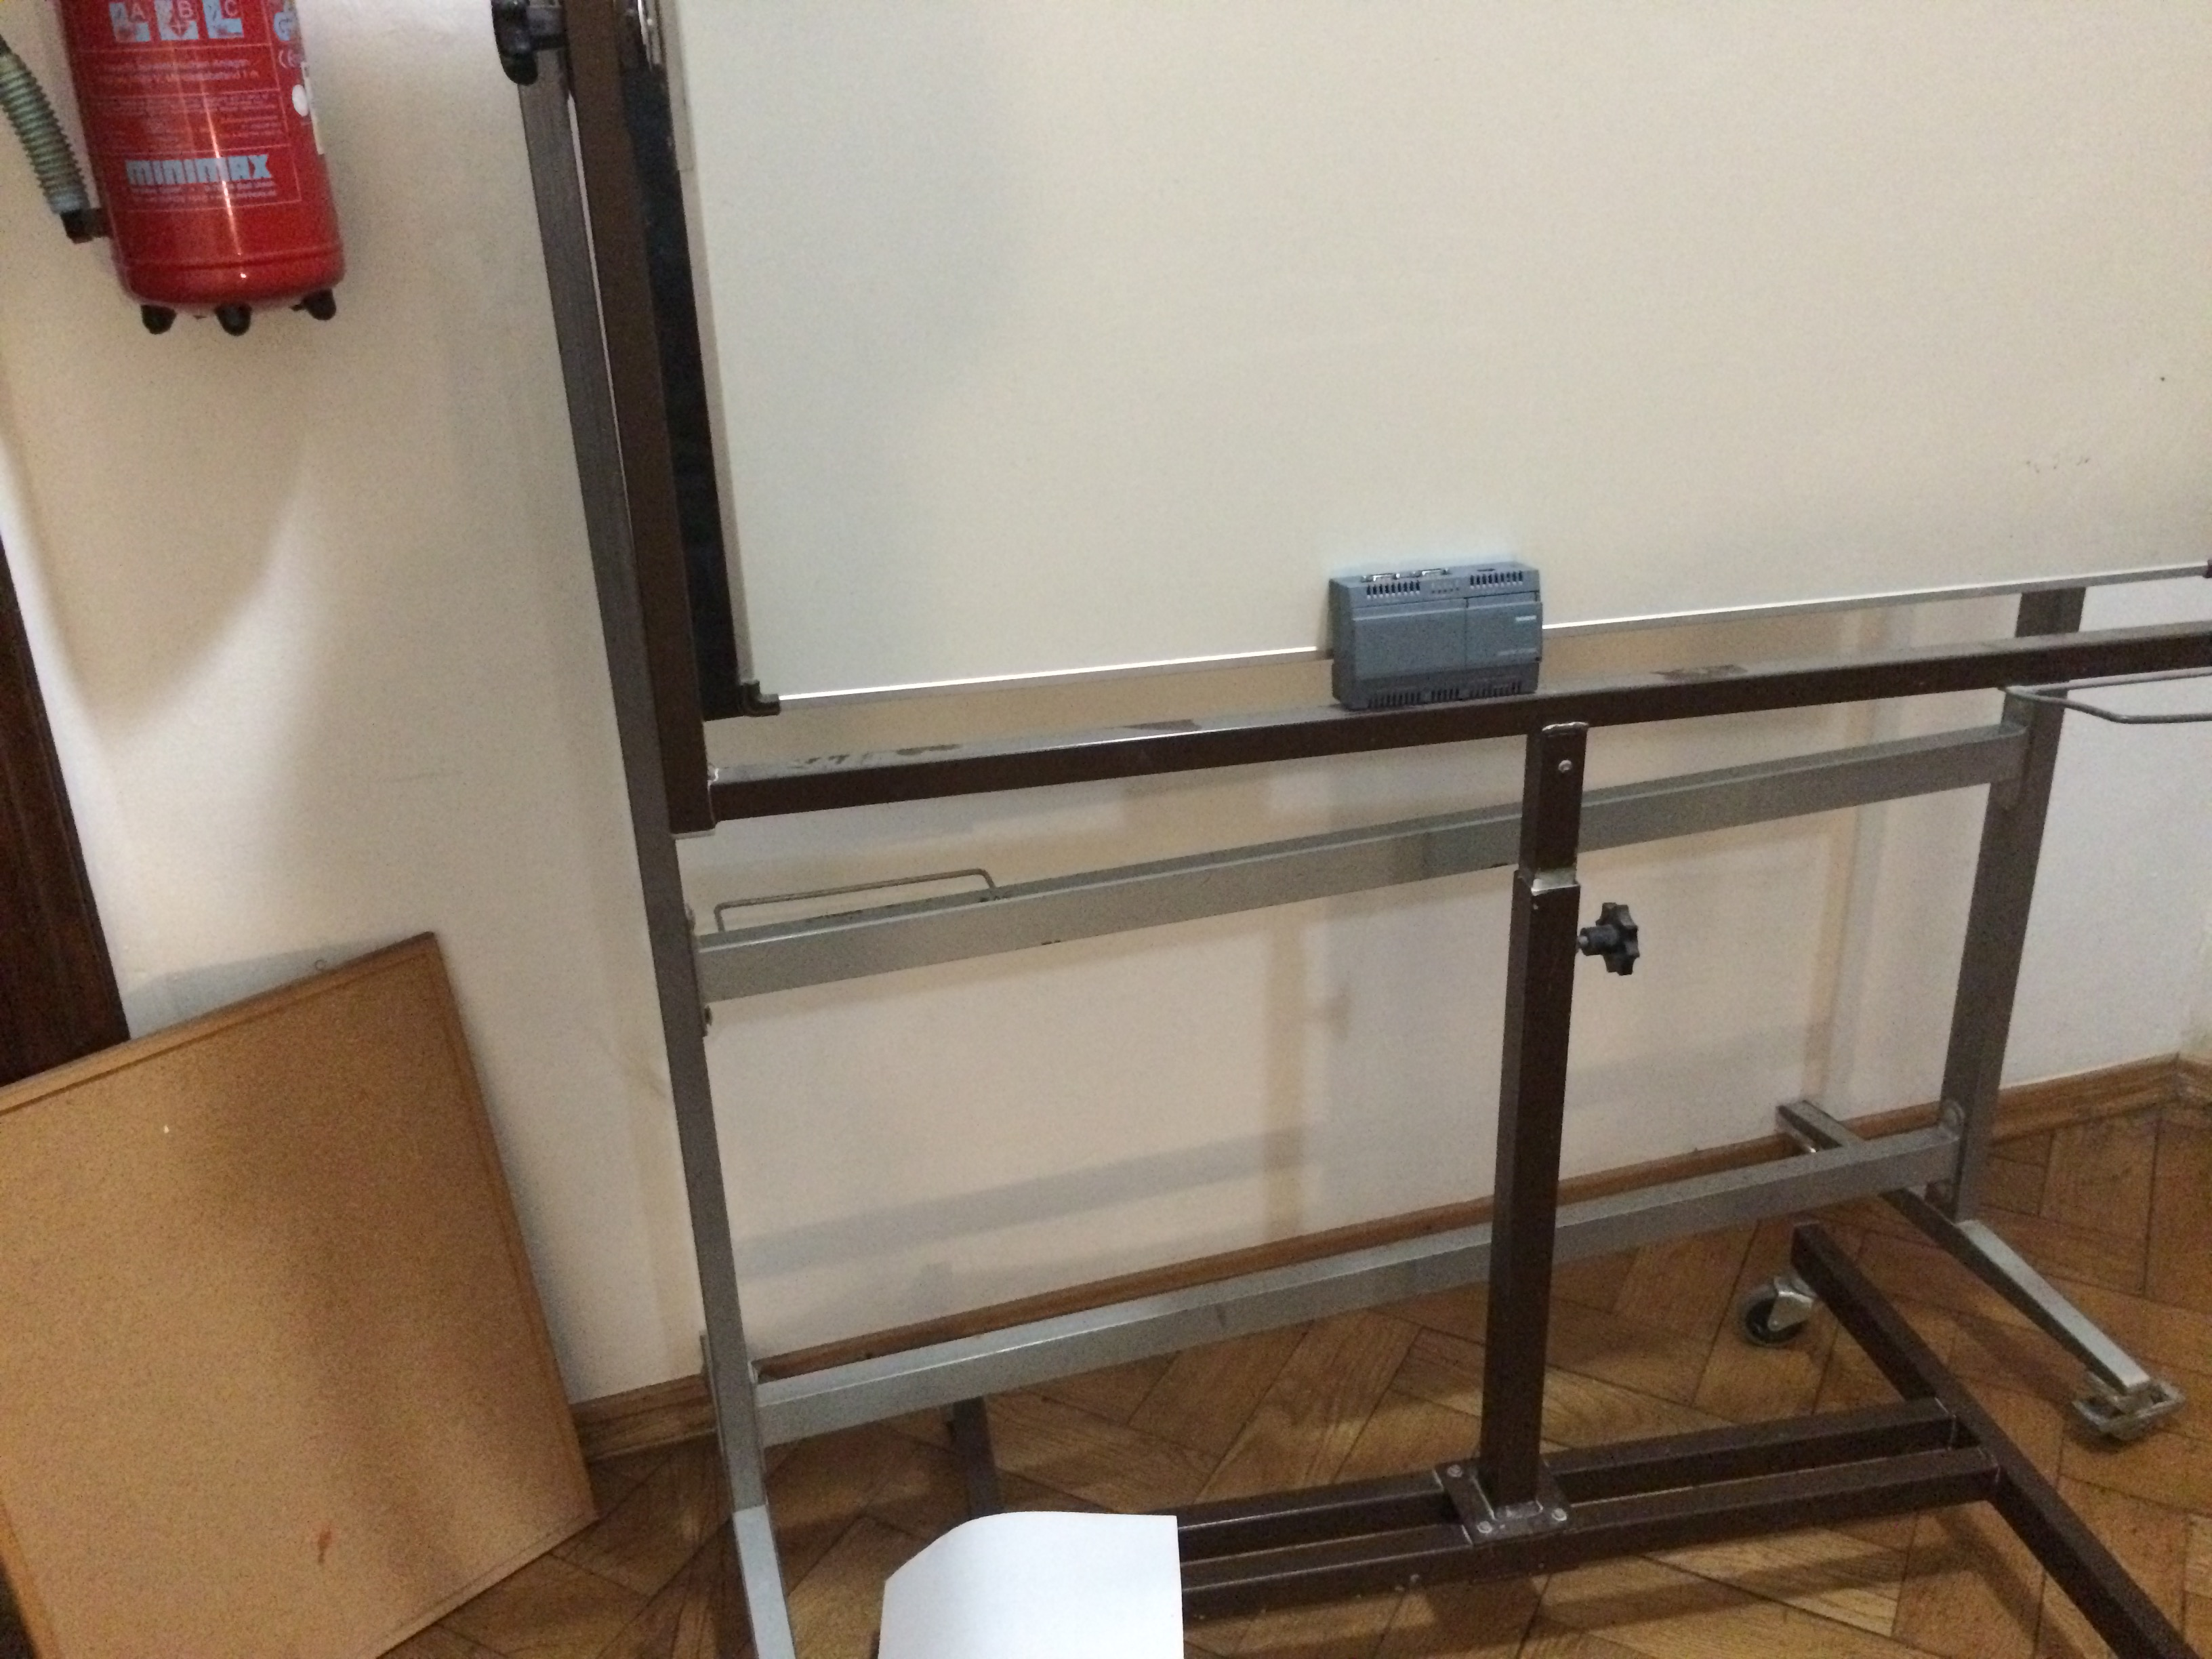iot2000: (1324, 561, 1547, 716)
